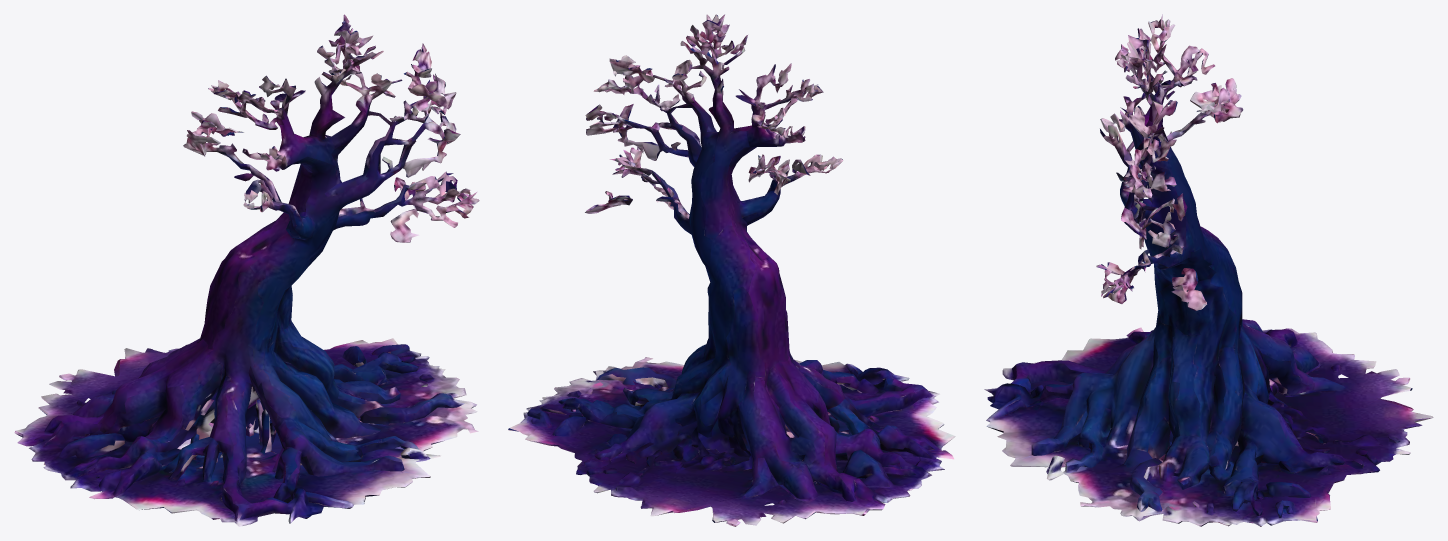
File: sea-root-west-generated-2026-05-17T19-37-48-870Z.low.glb
3 renders of one model, left to right at view 1: azimuth 30°, elevation 25°; view 2: azimuth 150°, elevation 25°; view 3: azimuth 270°, elevation 25°, orthographic. The views are drawn at different scales.
Parts seen in each view (by area): view 1: temp_mesh.ply; view 2: temp_mesh.ply; view 3: temp_mesh.ply.
Part boxes in pixels (box(x1,y1,x2,y2)): temp_mesh.ply: box(14, 14, 479, 526); temp_mesh.ply: box(508, 14, 955, 526); temp_mesh.ply: box(984, 14, 1433, 526).
Size of the model in its own units: 1.97 by 1.92 by 1.87.
Materials: 1 (1 with a texture image).
